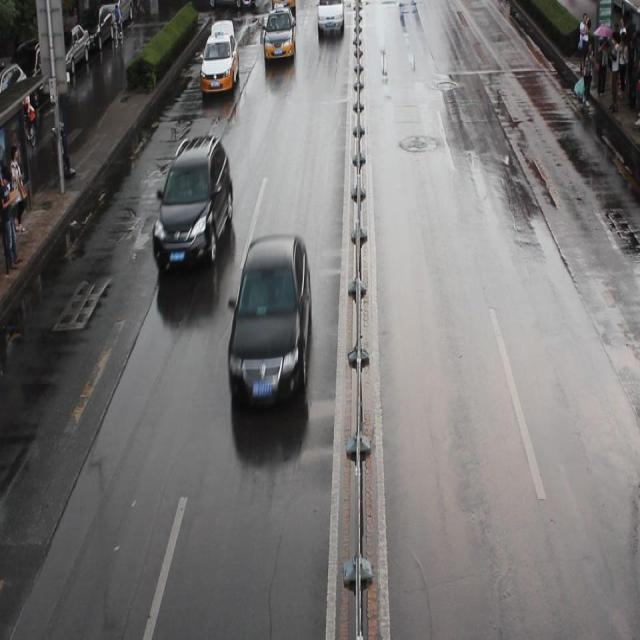car: (227, 231, 311, 410), (152, 137, 233, 270), (200, 34, 238, 94), (263, 8, 296, 62), (316, 2, 344, 34), (271, 1, 295, 13)
